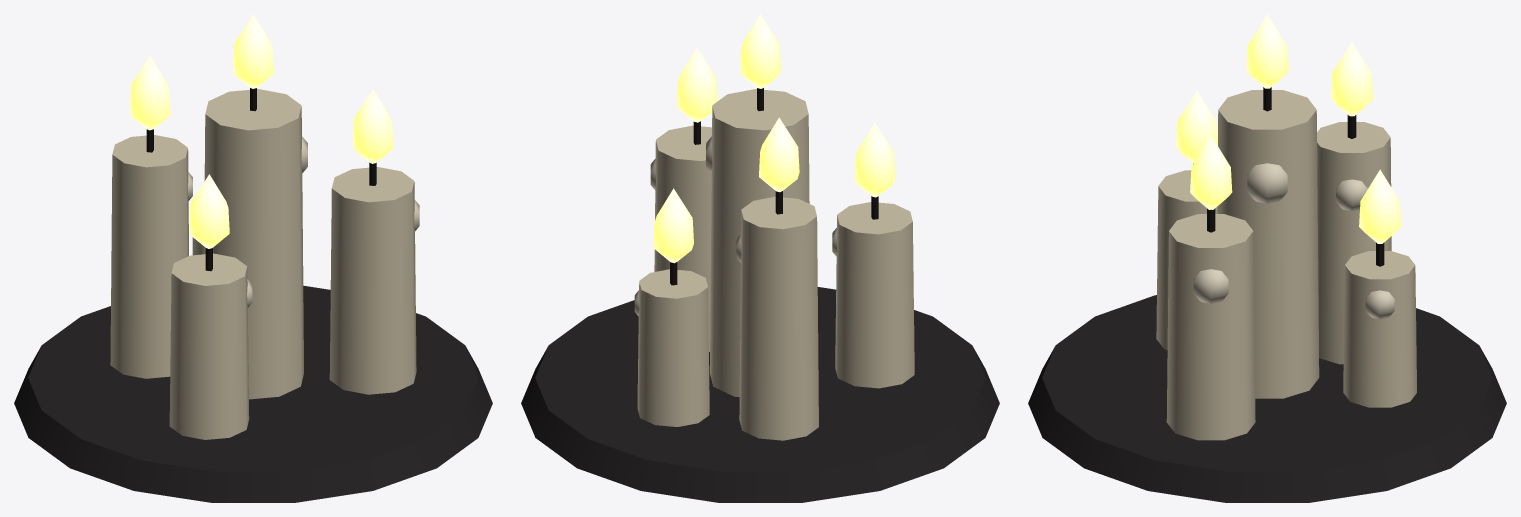
The model's file is ee02efc0-2641-4801-a6b3-2d13dffb4c5b.glb.
3 renders of one model, left to right at view 1: azimuth 30°, elevation 25°; view 2: azimuth 150°, elevation 25°; view 3: azimuth 270°, elevation 25°, orthographic.
Visible parts, largest first — view 1: Candles, Flame; view 2: Candles, Flame; view 3: Candles, Flame.
Boxes of the visible parts, x1,y1,x2,y2 form: Candles: (14, 88, 492, 502); Flame: (130, 14, 393, 248); Candles: (521, 88, 999, 502); Flame: (653, 14, 895, 263); Candles: (1028, 87, 1506, 502); Flame: (1176, 14, 1401, 243).
Size of the model in its own units: 0.6697 by 0.61 by 0.68.
